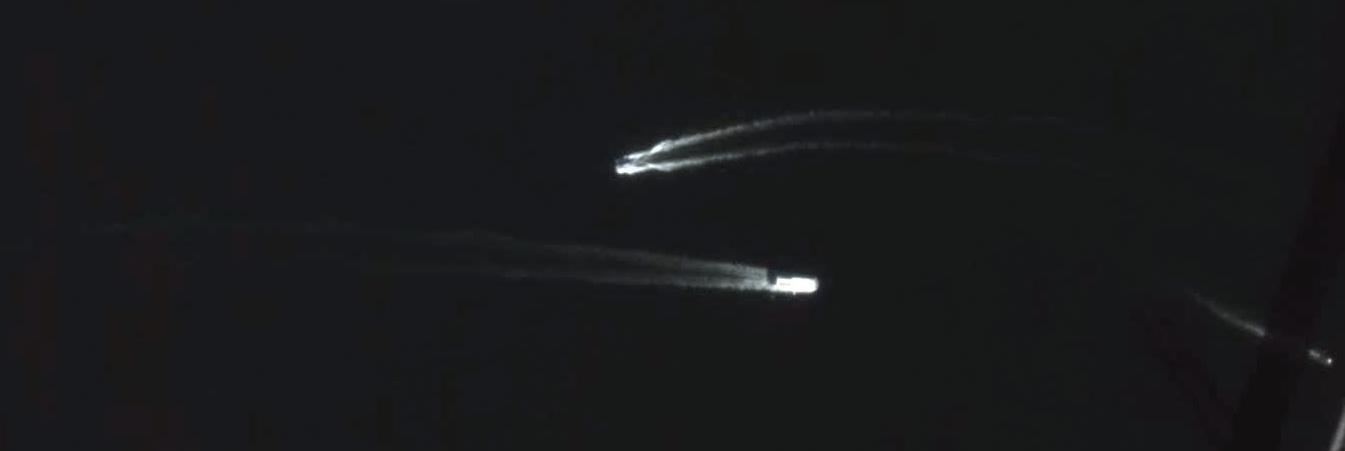person: (774, 275, 820, 294), (1307, 348, 1334, 367), (616, 158, 637, 168)
